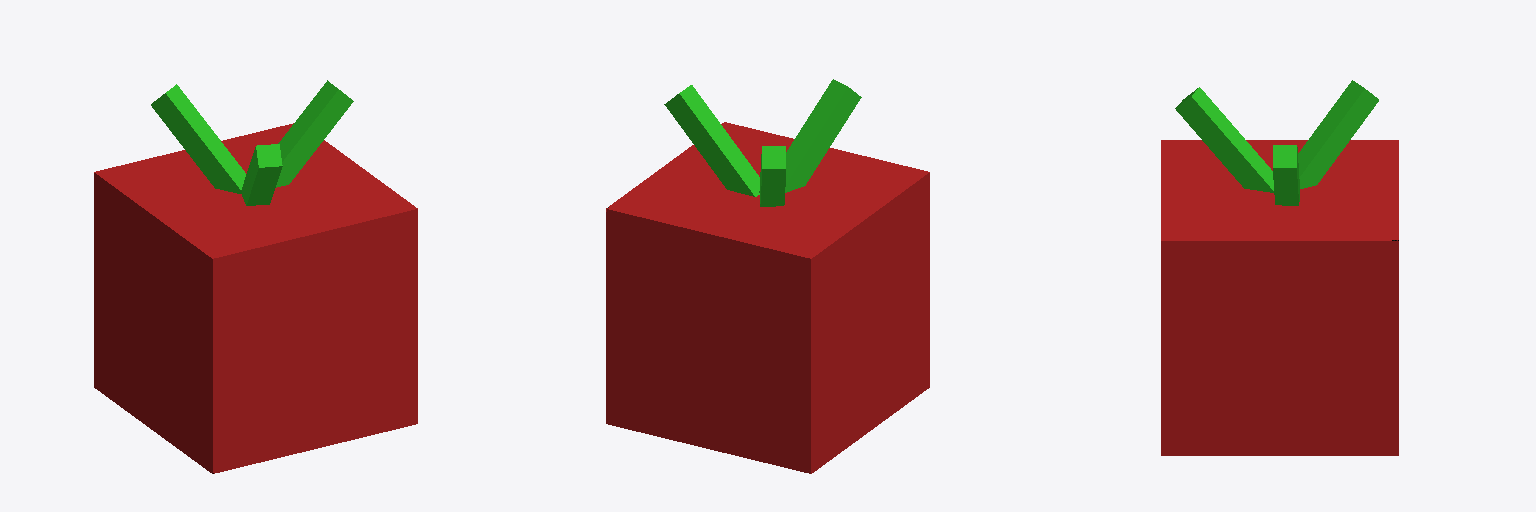
3 views of the same model, side by side, from view 1: azimuth 30°, elevation 25°; view 2: azimuth 150°, elevation 25°; view 3: azimuth 270°, elevation 25° (orthographic).
Parts seen in each view (by area): view 1: 立方体.002_立方体.003; view 2: 立方体.002_立方体.003; view 3: 立方体.002_立方体.003.
Boxes of the visible parts, <box> form: 立方体.002_立方体.003: <box>94,80,417,473</box>; 立方体.002_立方体.003: <box>606,79,929,473</box>; 立方体.002_立方体.003: <box>1161,80,1398,455</box>.
Bounding box in the file's own units: 2 × 2.78 × 2.
Materials: 1 (1 with a texture image).